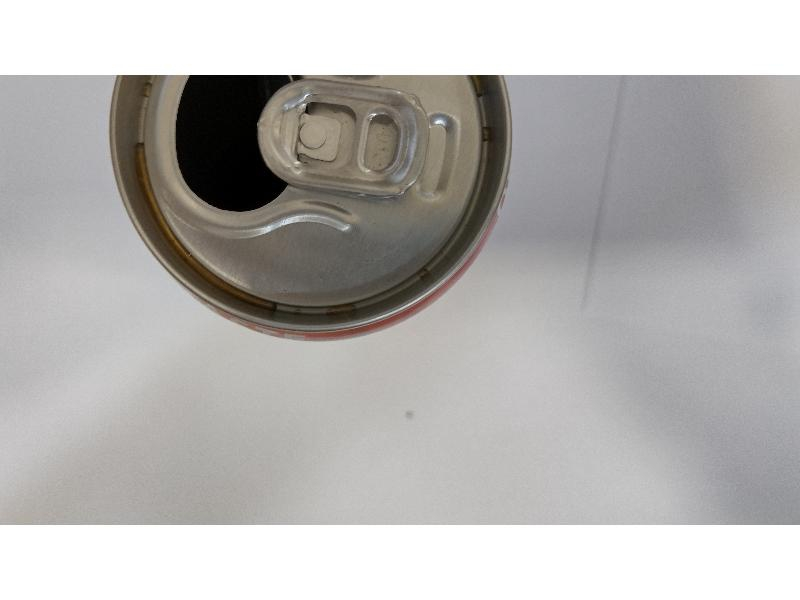can: (111, 78, 515, 344)
